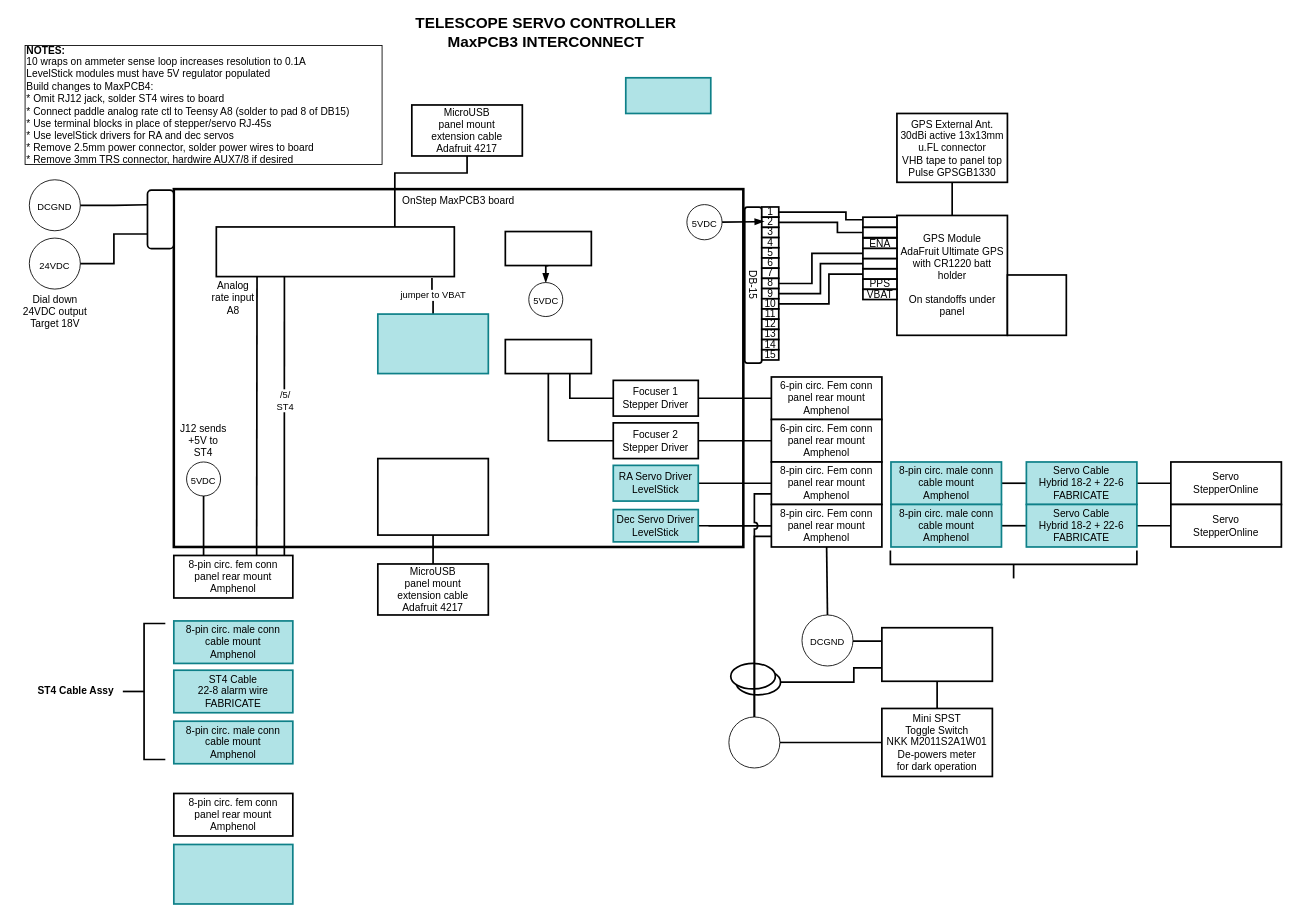
Image size: 1297x920. Some labels were removed from this diagram. The centre of each missing label's shape, as x and y in pixels:
48VDC: [754,742]
5V: [879,232]
Backup Battery Holder Keystone for CR1220 VHB tape to PCB: [433,343]
FIX: [879,253]
GND: [879,222]
GPS Backup Battery CR1220: [1036,305]
Onboard 12V Regulator: [548,356]
Onboard 5V Regulator: [548,248]
RXD: [879,263]
Servo Cable Assy: [1013,564]
Servo Volt/Ammeter DC 5-100V 100A Bayite 10 wraps on sense loop: [937,654]
ST4 Hand Paddle 4 buttons + rate pot in Bud Box AN-1302-AB: [233,873]
Teensy 4.1 SoC 600MHz with emulated EEPROM and onboard RTC: [335,251]
TXD: [879,274]
VCC GND PWR: [160,219]
WiFi Module WeMOS Mini Pro D1: [433,496]
You need to build or modify these: [667,95]
